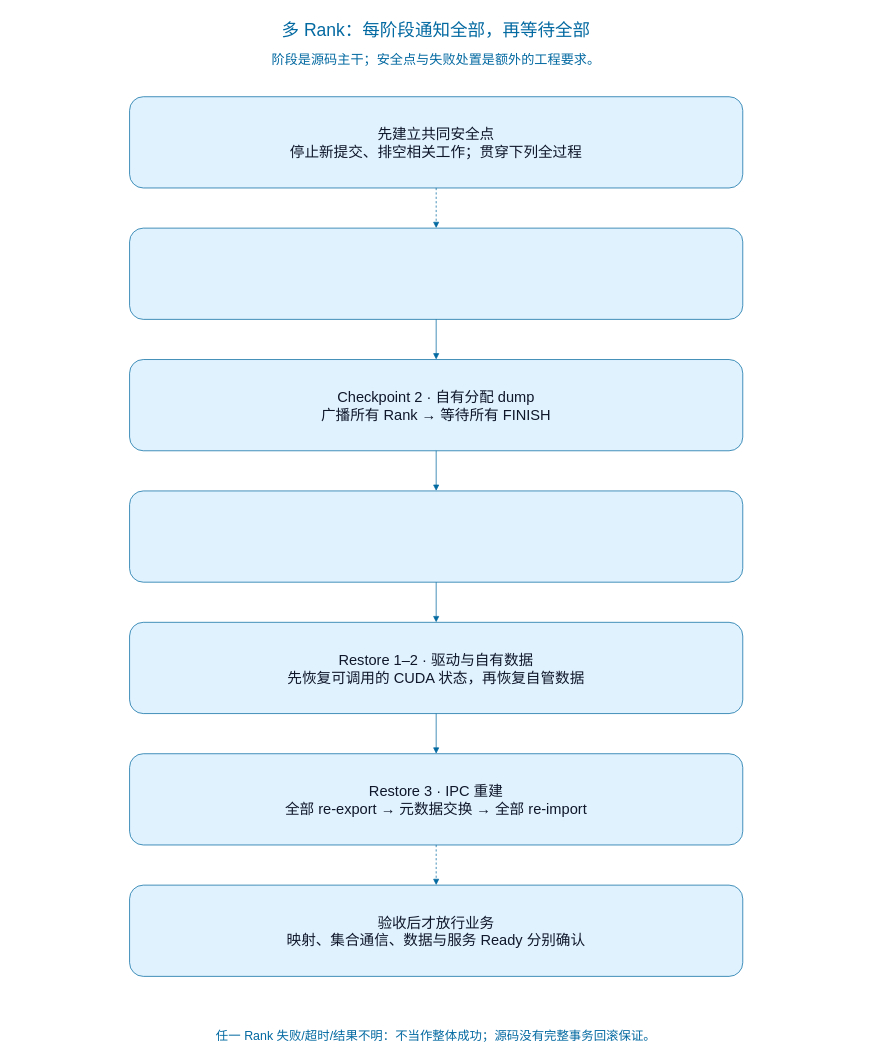
Some shapes in this 872 by 1061 pixel diagram are drawn without their labels. The shapes that lost their labels are listed below. From the top down, each one's centre as x and y in pixels, then its label:
the point at 436,273: Checkpoint 1 · IPC teardown 各 Worker 拆导入、备份导出/本地 cuMem、处理 P2P
the point at 436,536: Checkpoint 3 · 驱动阶段 toggle 或 lock→checkpoint；核对每 Rank 结果
